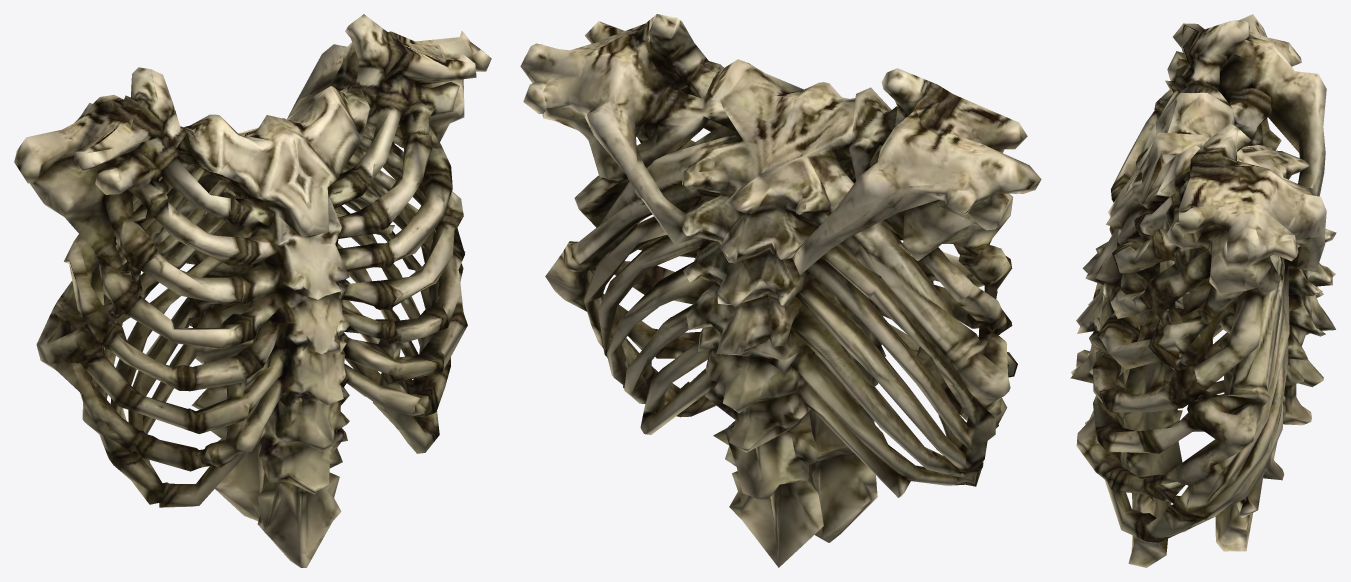
File: Bone_Chest_Armor.glb
3 renders of one model, left to right at view 1: azimuth 30°, elevation 25°; view 2: azimuth 150°, elevation 25°; view 3: azimuth 270°, elevation 25°, orthographic. The views are drawn at different scales.
Bounding box in the file's own units: 1.9 × 1.9 × 0.9238.
Materials: 1 (1 with a texture image).
